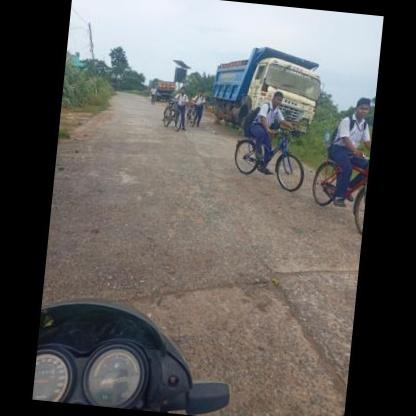Bicycle: (307, 136, 370, 237), (230, 119, 310, 194), (155, 94, 184, 137)
